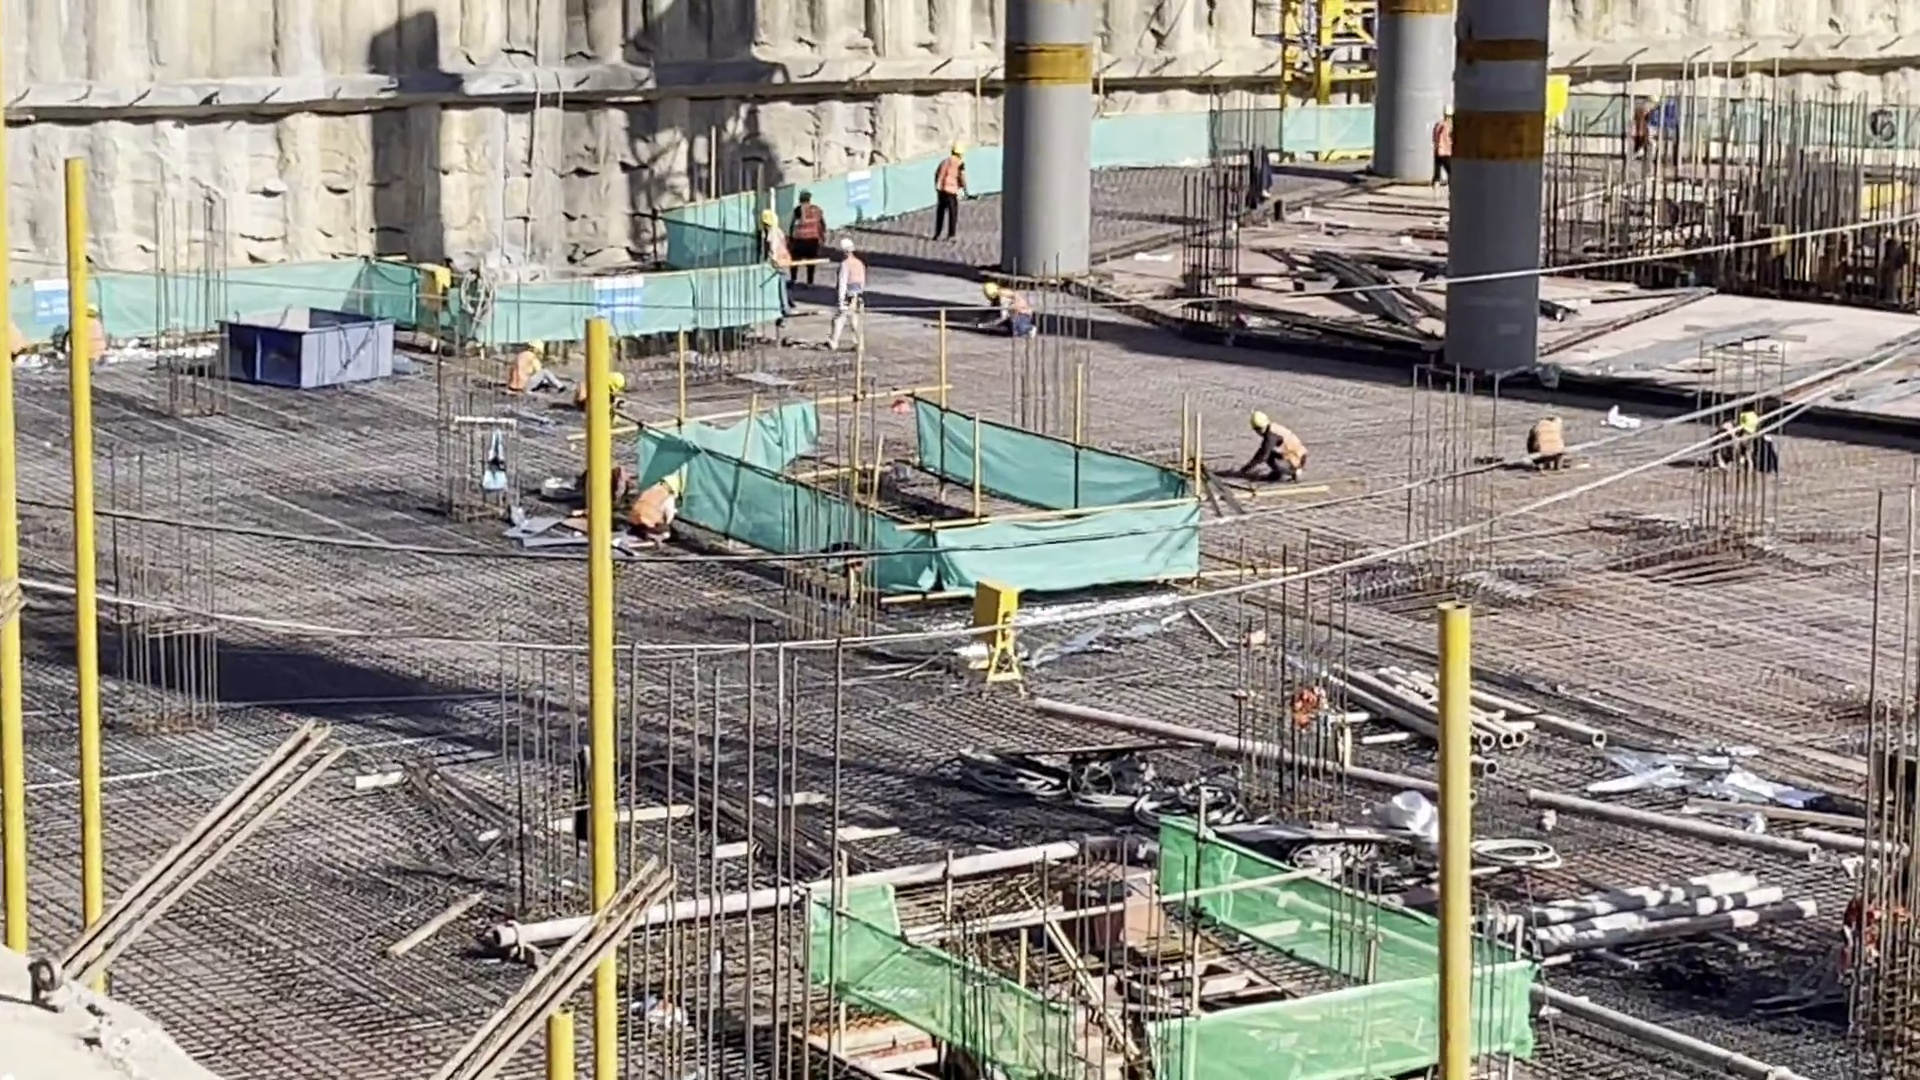ebox: (981, 576, 1021, 649), (417, 263, 454, 323)
helmet: (1245, 411, 1274, 430), (611, 371, 628, 394), (985, 281, 1005, 301), (798, 183, 814, 206), (1744, 408, 1758, 431), (665, 472, 679, 493), (844, 240, 859, 259), (765, 206, 776, 231), (528, 338, 543, 351), (951, 145, 968, 156), (1442, 98, 1452, 111)
hopper: (248, 291, 396, 387)
person: (1242, 404, 1309, 481), (785, 188, 829, 294), (924, 138, 966, 238), (981, 271, 1041, 341), (838, 237, 871, 349), (759, 211, 797, 309), (633, 468, 679, 545), (1631, 89, 1672, 168), (1712, 409, 1768, 466), (568, 362, 633, 412), (1425, 102, 1455, 184), (513, 334, 551, 396), (1528, 405, 1567, 466)
rebar: (1313, 235, 1448, 336)
vest: (628, 487, 676, 535), (1266, 419, 1309, 465), (791, 200, 821, 250), (1523, 420, 1560, 458), (841, 255, 865, 313), (1003, 282, 1031, 325), (1632, 99, 1658, 145), (931, 161, 965, 193), (1718, 425, 1753, 456), (765, 231, 789, 274), (509, 355, 537, 387), (1440, 118, 1455, 155)
